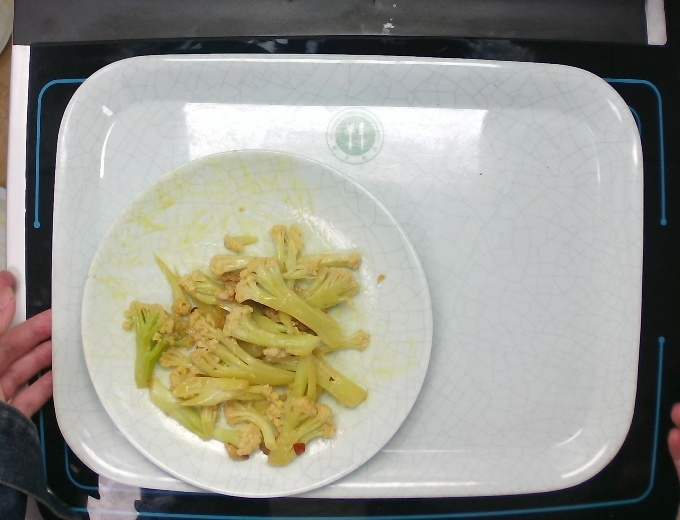JYsf-Da_Yuan_Pan: (77, 145, 433, 497)
